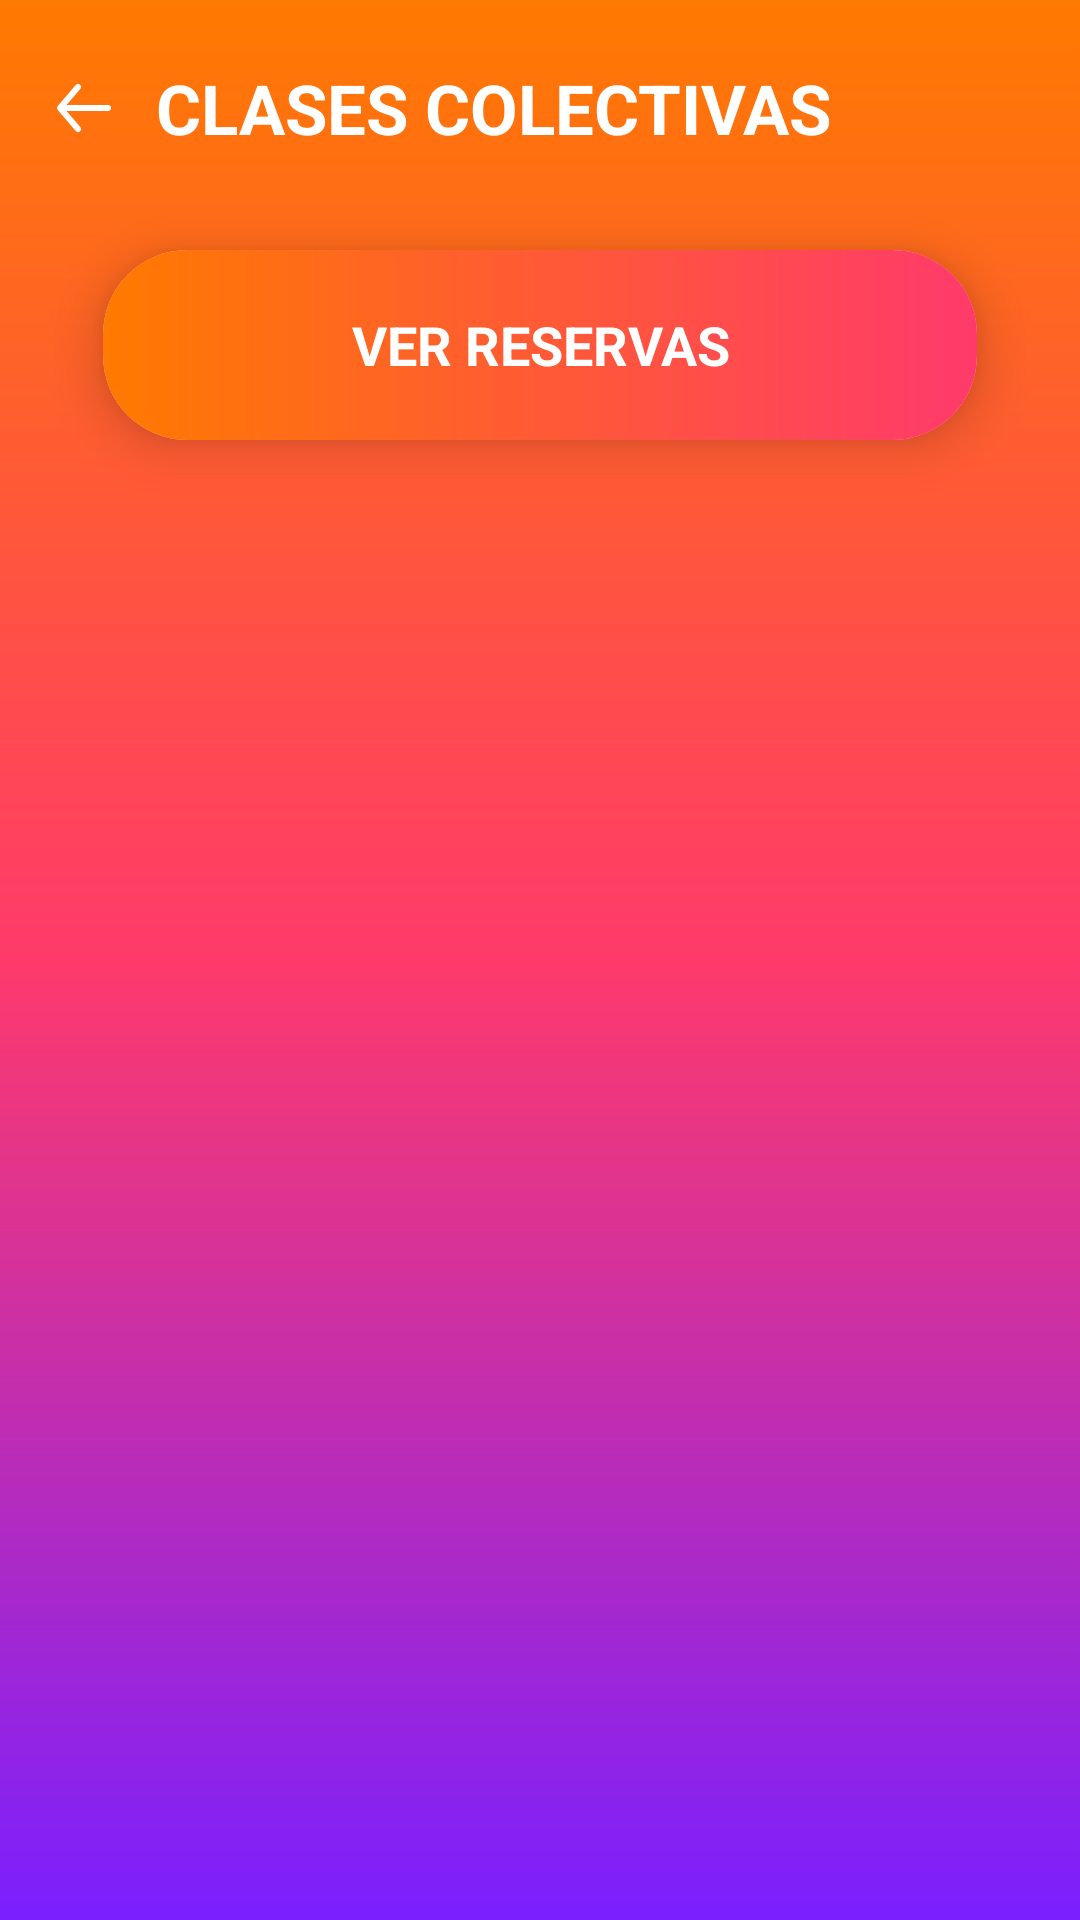

Named icons in this screenshot (1080 x 1920) and their bounding boxes, [x1,y1,x2,y2]:
back arrow: [57,84,111,132]
